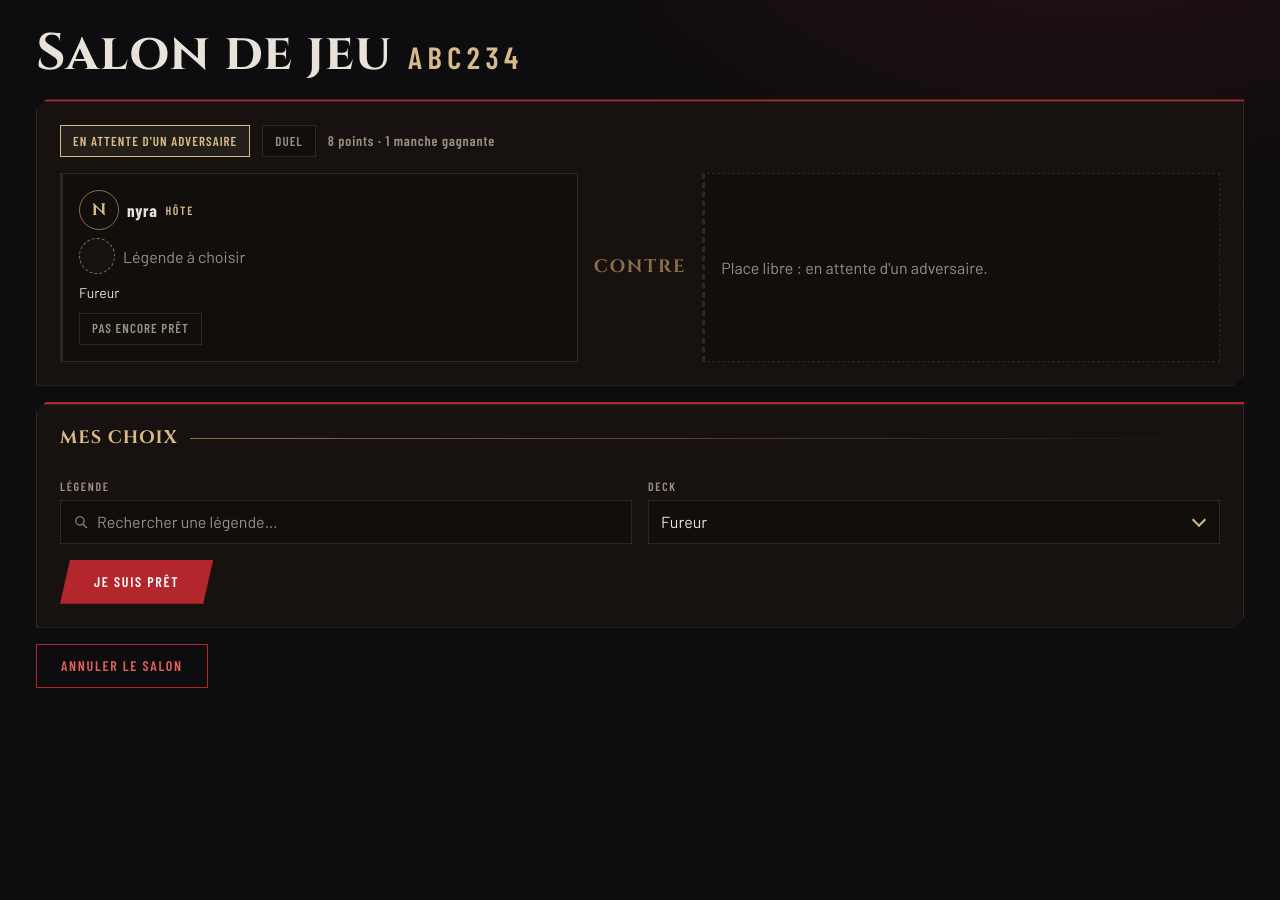
RoomView › choix de deck refusé par l'API : le select revient à sa valeur précédente
The width and height of the screenshot is (1280, 900).
Select "Calme" in the dropdown with id "room-deck": x=934, y=522 [648,500,1220,544]
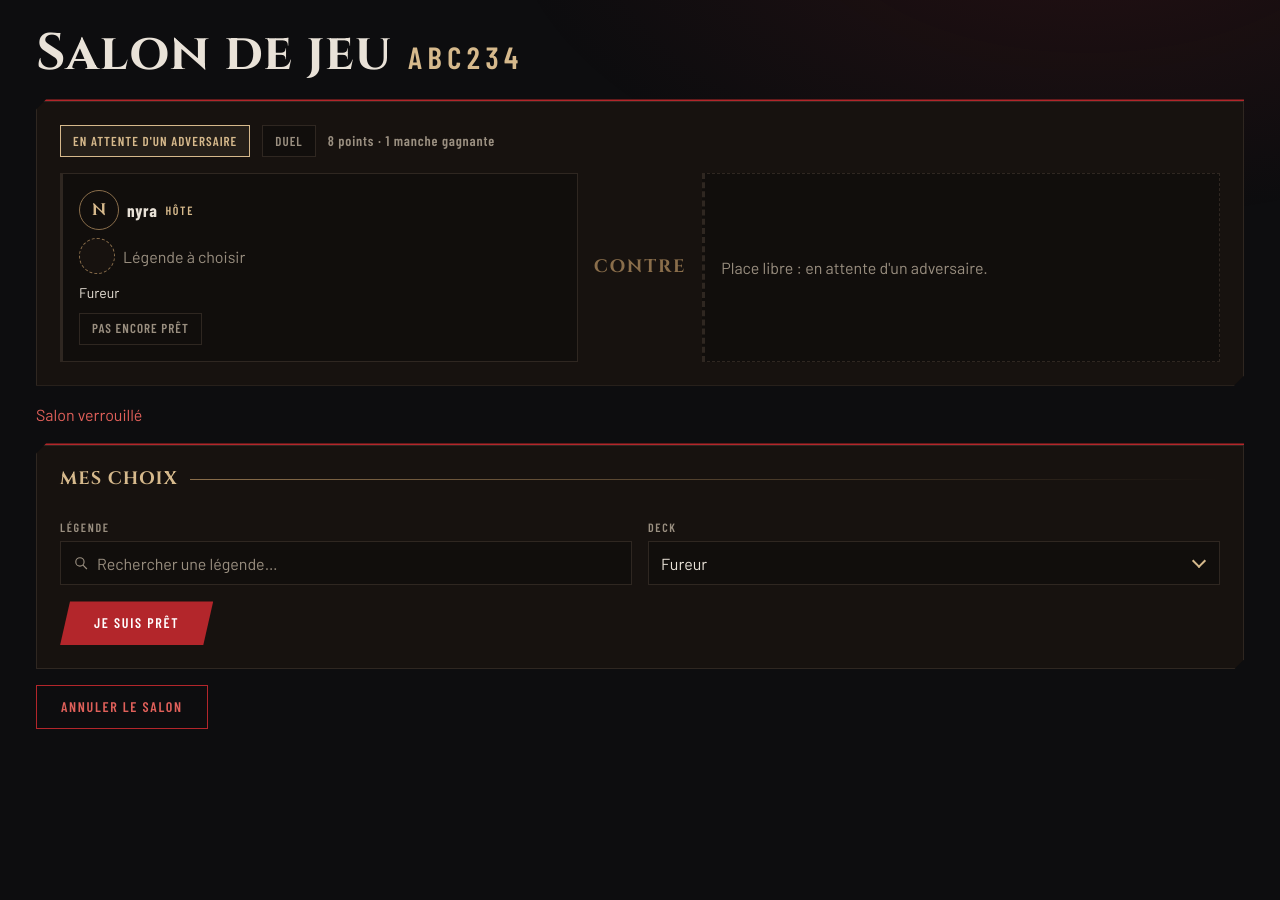
Expected: the message with class "salon-error" reads "Salon verrouillé", [36,405,142,424]
